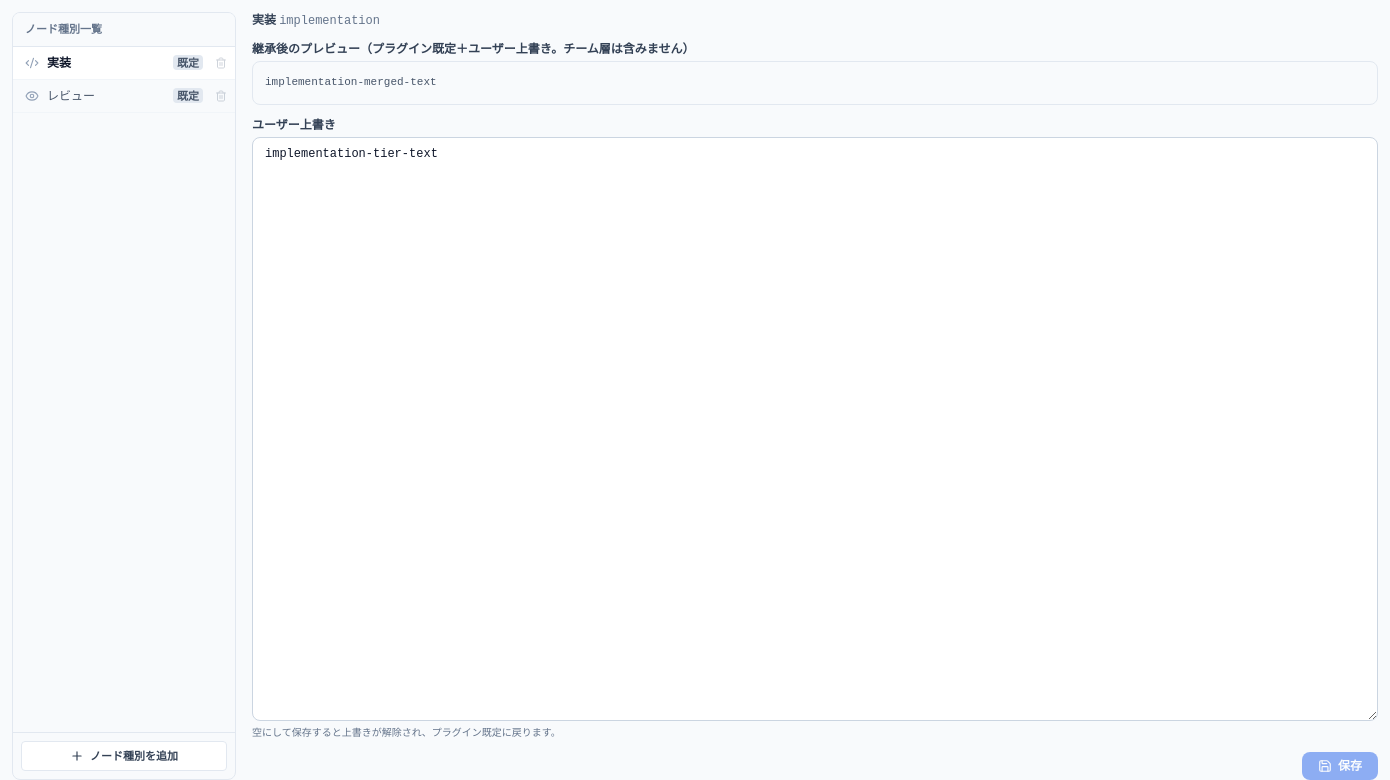
NodeTypesEditor › #3 non-regression: changing the selection does not re-fetch the type list
The width and height of the screenshot is (1390, 780).
Click the button "レビュー 既定" at (110,96), box [13, 80, 207, 112]
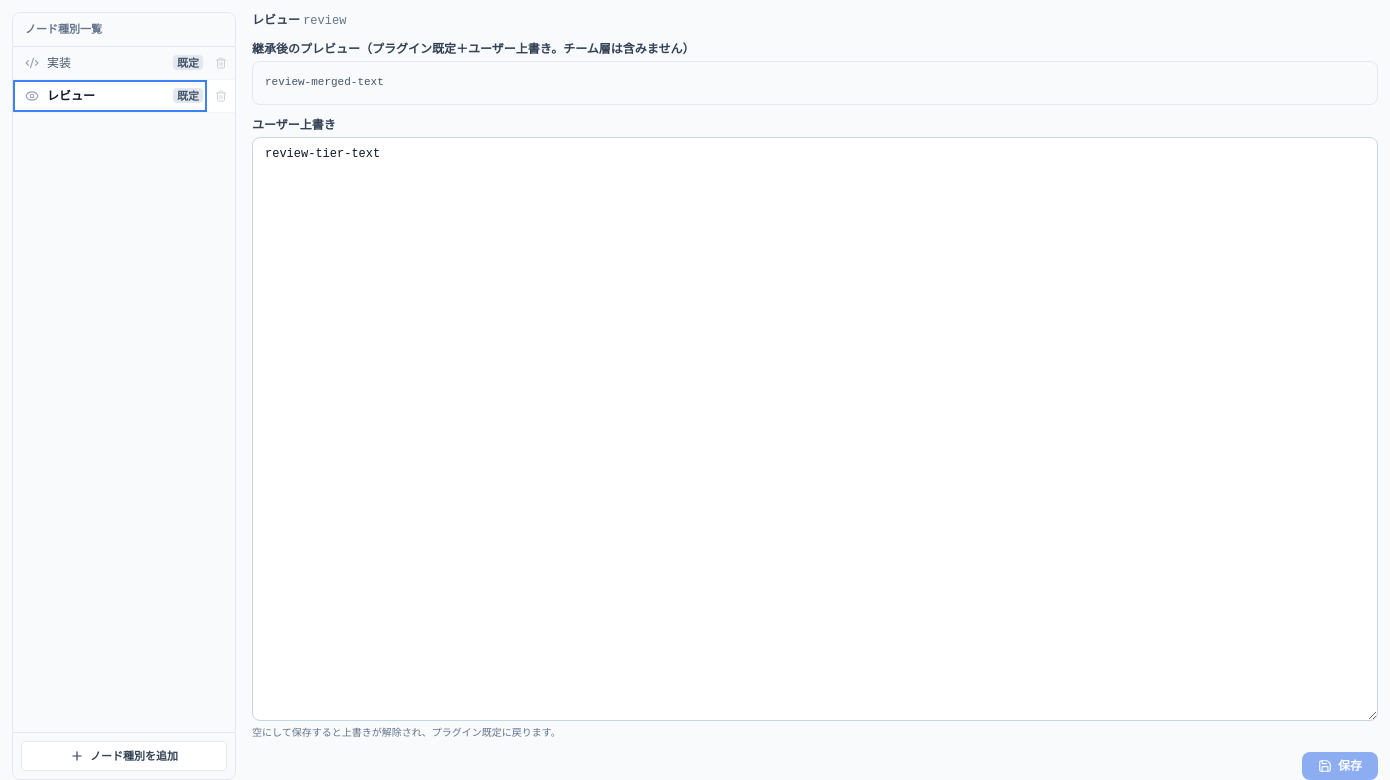
Expected: the text box showing "review-tier-text" is shown
